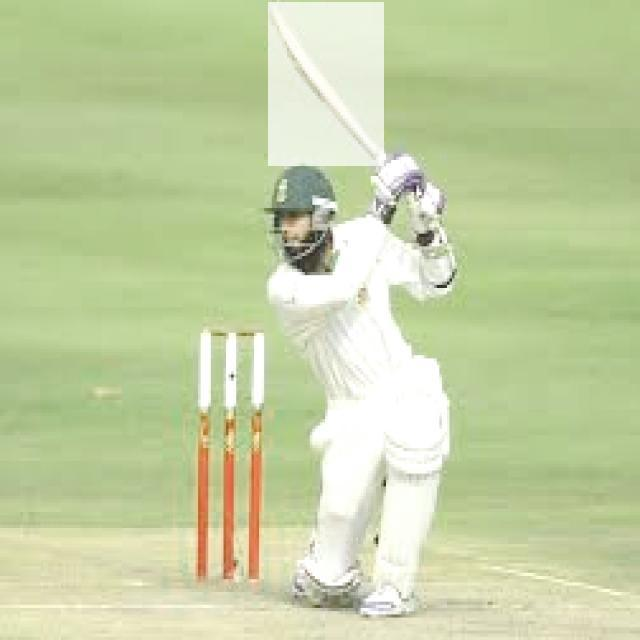bat: (270, 0, 384, 165)
toe: (269, 0, 284, 19)
